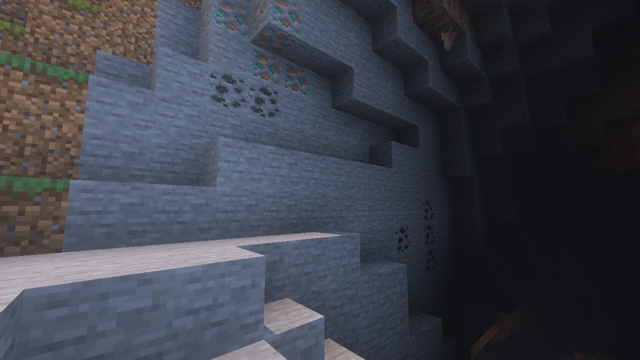coal: (206, 72, 275, 120), (421, 201, 439, 272), (392, 226, 412, 252)
copper: (206, 2, 301, 54), (257, 52, 309, 92)
